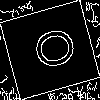O: (24, 24, 78, 75)
